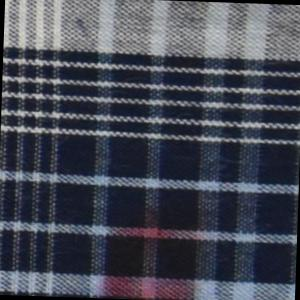Stain: (99, 199, 206, 300), (72, 15, 94, 44)
